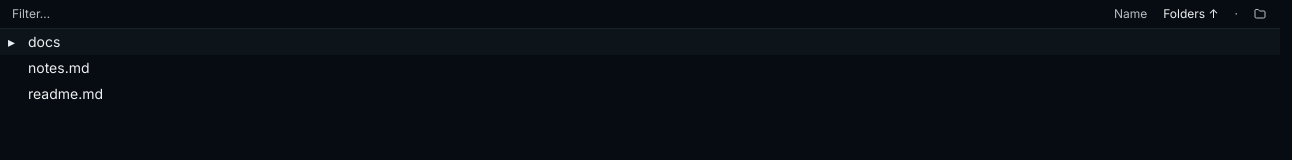
FileTree › inline create › Escape cancels the inline create row
Click the text "readme.md" at (66, 94), box [28,84,103,104]
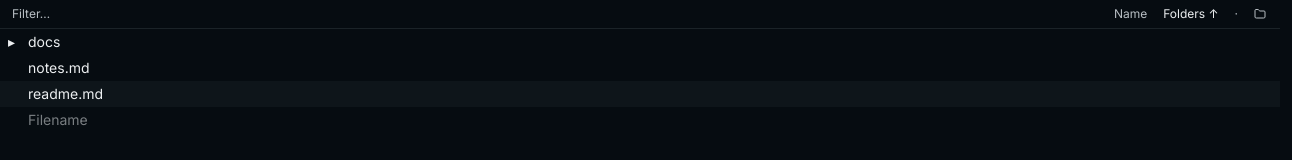
Press Escape in the field with placeholder "Filename", box [28,110,1280,130]
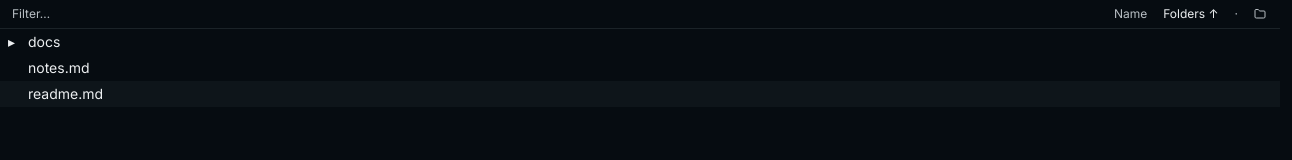
Expected: the field with placeholder "Filename" is gone
